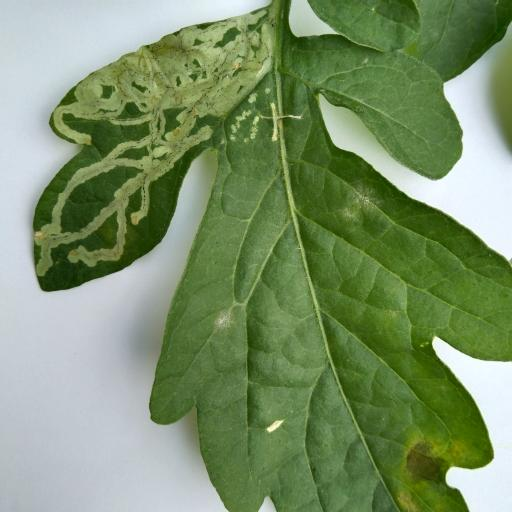disease_tomato: (29, 0, 512, 512)
